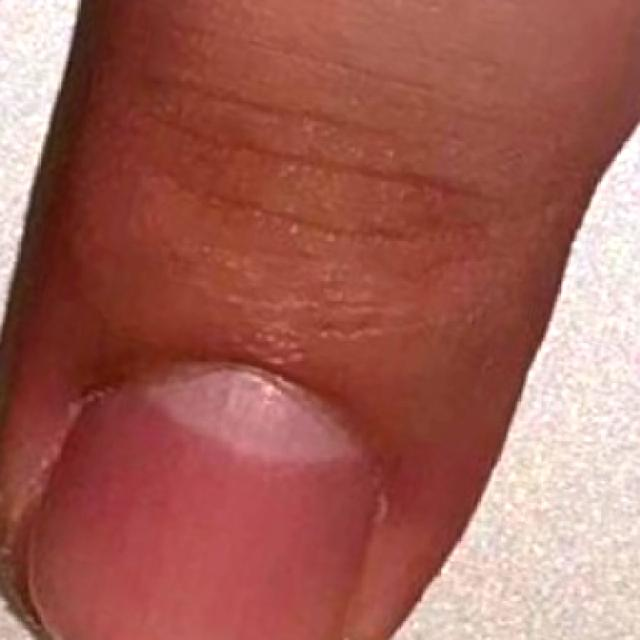Nail: (29, 375, 375, 640)
